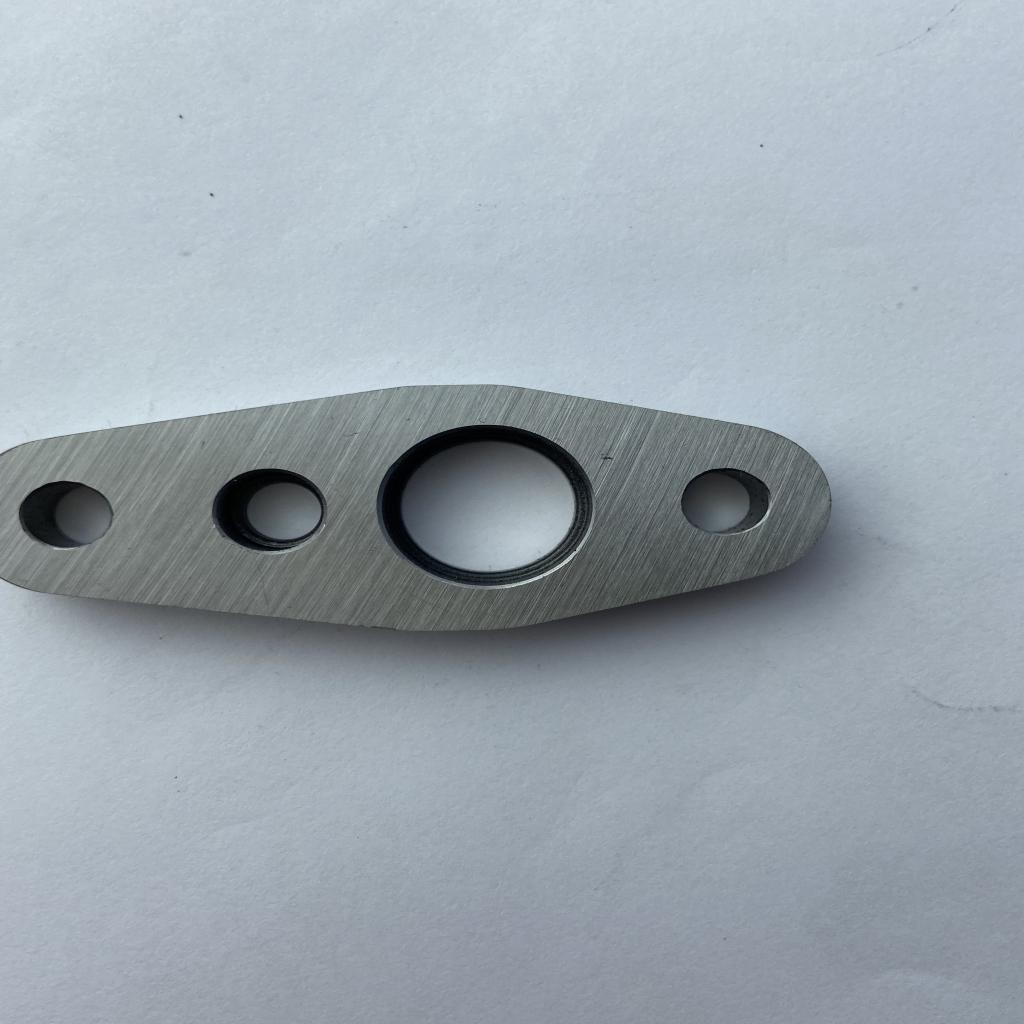chap: (592, 448, 618, 464), (400, 416, 414, 422)
lines: (246, 555, 271, 608), (196, 439, 208, 451)
